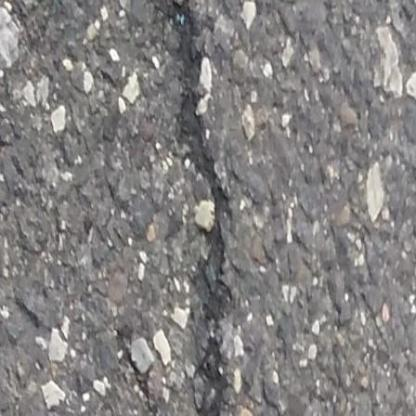Cracks: (141, 0, 270, 416)
